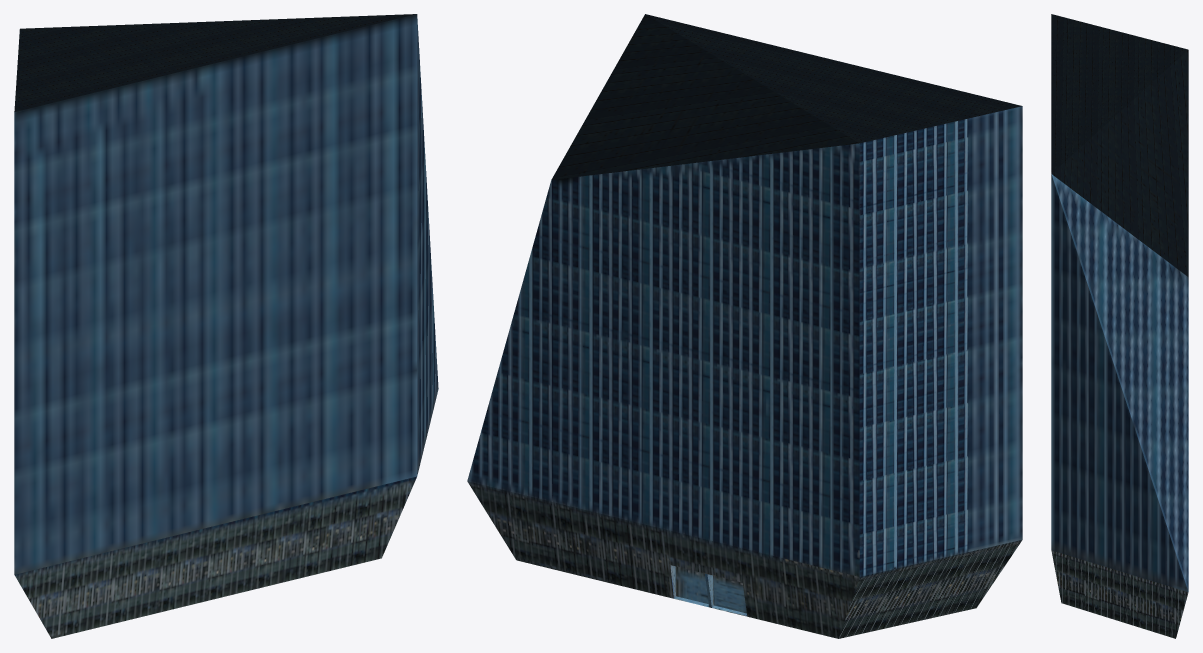
The model's file is 240 Blackfriar's (Marked).glb.
3 renders of one model, left to right at view 1: azimuth 30°, elevation 25°; view 2: azimuth 150°, elevation 25°; view 3: azimuth 270°, elevation 25°, orthographic. The views are drawn at different scales.
Visible parts, largest first — view 1: Blocks, 240Blackfriar's Run.036, 240Blackfriar's Run.042, 240Blackfriar's Run.046, 240Blackfriar's Run.030, 240Blackfriar's Run.035, 240Blackfriar's Run.039, 240Blackfriar's Run.041, 240Blackfriar's Run.045, 240Blackfriar's Run.048, 240Blackfriar's Run.031, 240Blackfriar's Run.032 (+15 smaller); view 2: Blocks, 240Blackfriar's Run.019, 240Blackfriar's Run.020, 240Blackfriar's Run.018, 240Blackfriar's Run.017, 240Blackfriar's Run.016, 240Blackfriar's Run.015, 240Blackfriar's Run.021, 240Blackfriar's Run.024, 240Blackfriar's Run.026, 240Blackfriar's Run.027, 240Blackfriar's Run.028 (+17 smaller); view 3: Blocks, 240Blackfriar's Run.051, 240Blackfriar's Run.052, 240Blackfriar's Run.067, 240Blackfriar's Run.065, 240Blackfriar's Run.053, 240Blackfriar's Run.066, 240Blackfriar's Run.064, 240Blackfriar's Run.054, 240Blackfriar's Run.055, 240Blackfriar's Run.063, 240Blackfriar's Run.056 (+6 smaller).
Boxes of the visible parts, x1,y1,x2,y2 form: Blocks: [14, 14, 416, 638]; 240Blackfriar's Run.036: [129, 79, 148, 546]; 240Blackfriar's Run.042: [244, 51, 263, 518]; 240Blackfriar's Run.046: [321, 32, 340, 499]; 240Blackfriar's Run.030: [14, 107, 33, 574]; 240Blackfriar's Run.035: [110, 84, 129, 551]; 240Blackfriar's Run.039: [187, 65, 206, 532]; 240Blackfriar's Run.041: [225, 56, 244, 523]; 240Blackfriar's Run.045: [302, 37, 321, 504]; 240Blackfriar's Run.048: [359, 23, 378, 490]; 240Blackfriar's Run.031: [33, 103, 52, 569]; 240Blackfriar's Run.032: [52, 98, 71, 565]; Blocks: [467, 14, 1022, 638]; 240Blackfriar's Run.019: [818, 146, 839, 571]; 240Blackfriar's Run.020: [839, 143, 859, 576]; 240Blackfriar's Run.018: [798, 148, 818, 566]; 240Blackfriar's Run.017: [777, 150, 797, 561]; 240Blackfriar's Run.016: [757, 153, 777, 556]; 240Blackfriar's Run.015: [736, 155, 756, 551]; 240Blackfriar's Run.021: [859, 139, 877, 576]; 240Blackfriar's Run.024: [914, 127, 932, 564]; 240Blackfriar's Run.026: [950, 118, 968, 555]; 240Blackfriar's Run.027: [968, 114, 986, 551]; 240Blackfriar's Run.028: [986, 110, 1004, 547]; Blocks: [1051, 14, 1188, 638]; 240Blackfriar's Run.051: [1051, 174, 1066, 554]; 240Blackfriar's Run.052: [1066, 221, 1081, 559]; 240Blackfriar's Run.067: [1174, 267, 1188, 591]; 240Blackfriar's Run.065: [1142, 243, 1159, 504]; 240Blackfriar's Run.053: [1082, 268, 1096, 563]; 240Blackfriar's Run.066: [1160, 256, 1174, 547]; 240Blackfriar's Run.064: [1123, 228, 1142, 451]; 240Blackfriar's Run.054: [1097, 313, 1112, 568]; 240Blackfriar's Run.055: [1112, 360, 1127, 573]; 240Blackfriar's Run.063: [1104, 214, 1122, 391]; 240Blackfriar's Run.056: [1127, 407, 1142, 578].
Size of the model in its own units: 83.97 by 85.5 by 24.1.
Materials: 68 (68 with a texture image).
